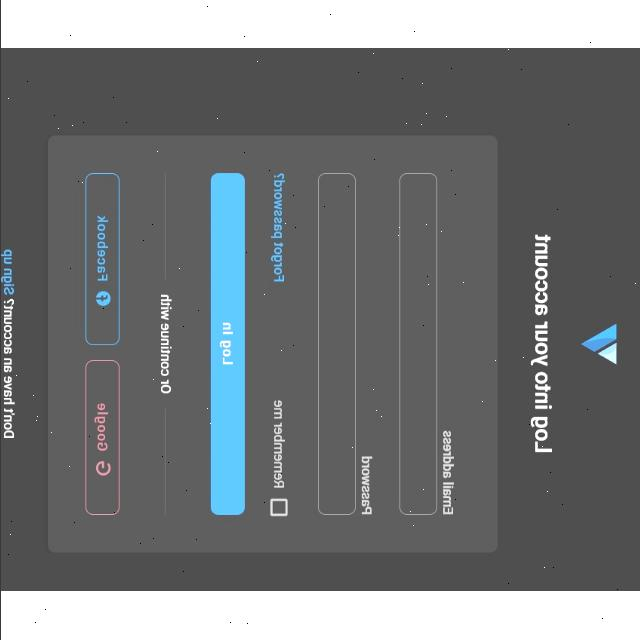QLabel: (526, 234, 552, 456), (1, 300, 16, 440), (270, 171, 284, 285), (158, 295, 172, 399), (272, 399, 284, 491), (442, 430, 454, 518), (95, 215, 109, 283), (92, 404, 108, 452), (360, 455, 372, 517), (219, 322, 233, 370), (0, 250, 14, 296)
VBtn: (208, 174, 246, 516), (82, 172, 121, 348), (82, 359, 121, 518)
VCard: (43, 133, 500, 557)
VCheckbox: (267, 498, 289, 518)
VDivider: (162, 409, 166, 516), (162, 174, 166, 280)
VIcon: (576, 322, 618, 366)
VTextField: (315, 172, 355, 516), (398, 174, 438, 518)
